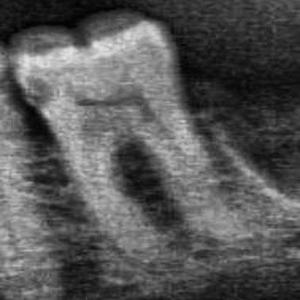tooth: (14, 23, 242, 287)
